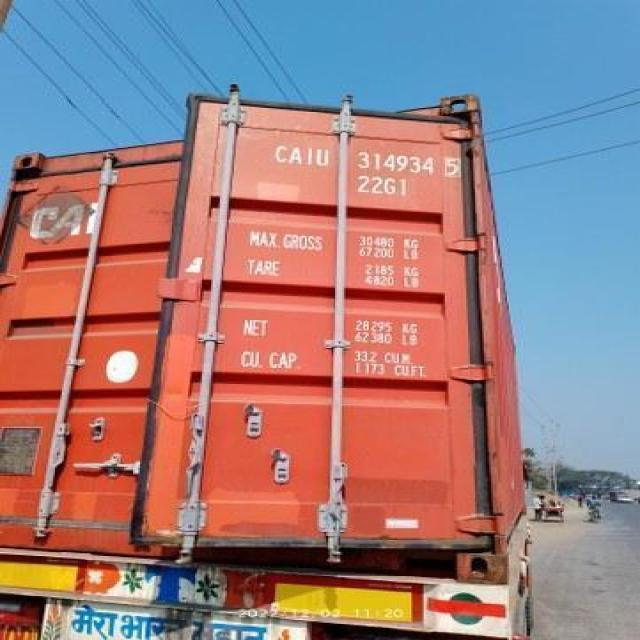ISO: (358, 176, 412, 199)
container_number: (266, 149, 453, 172)
